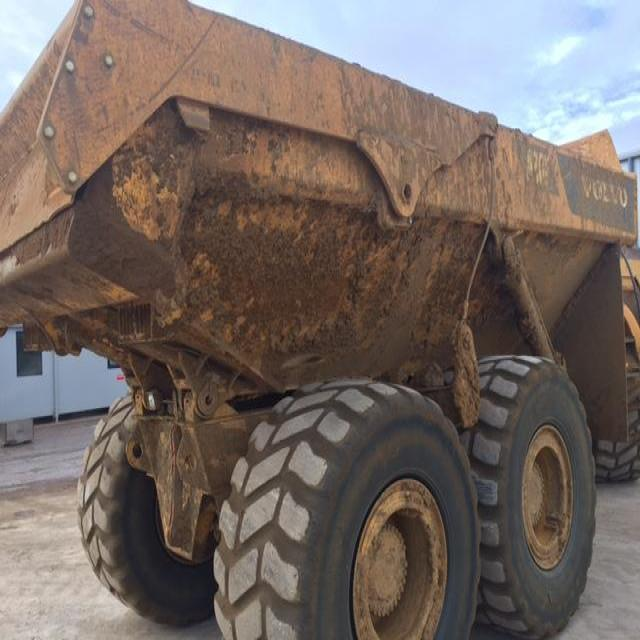dump_truck: (5, 3, 639, 637)
